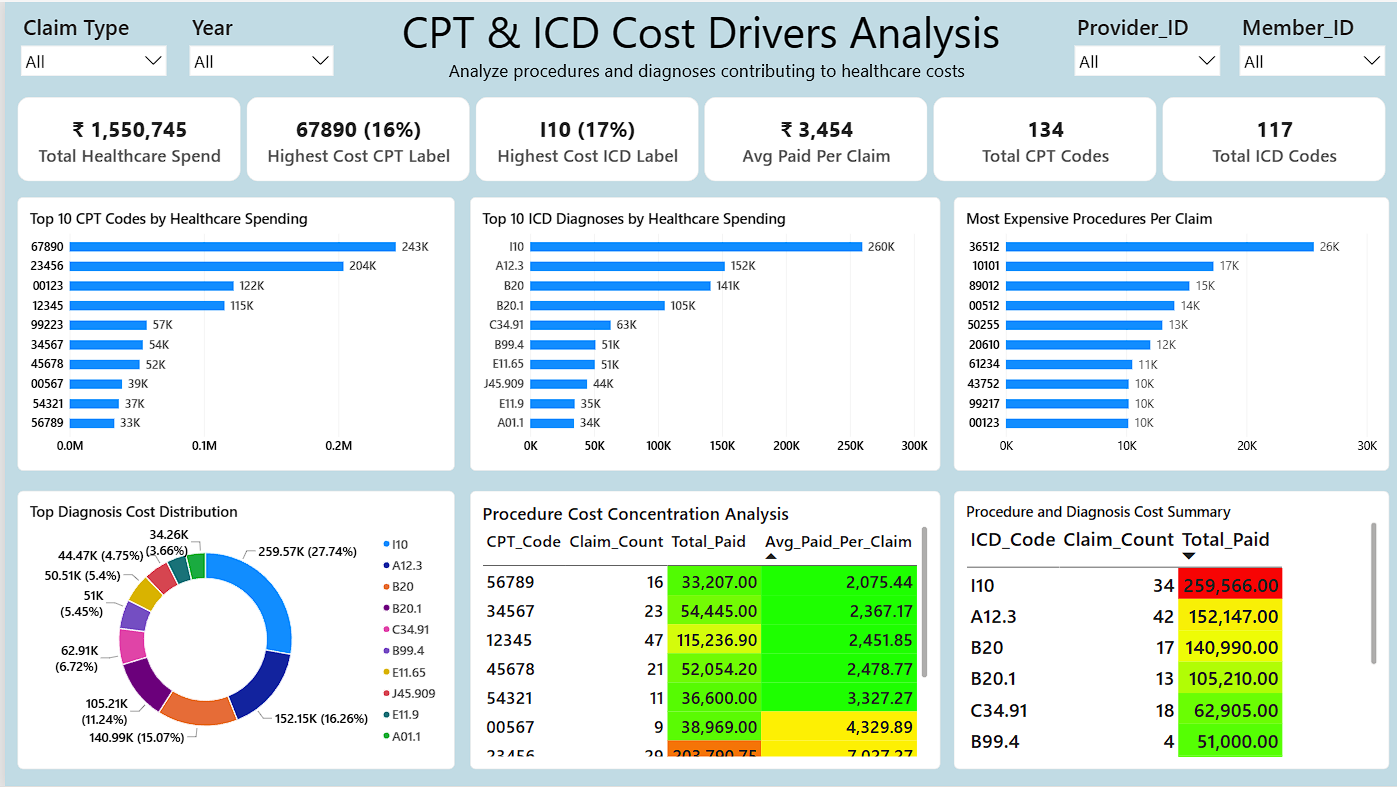

The page's visual inventory and layout, read from the dashboard file:
{"tool":"powerbi","page":{"name":"CPT & ICD COST","canvas":[1920,1080],"ordinal":2},"visuals":[{"type":"textbox","box":[508.6,0,913.3,110.4],"z":0},{"type":"slicer","fields":{"Values":["claims.claim_type"]},"box":[17.3,13,209.9,100],"z":1000},{"type":"slicer","fields":{"Values":["claims.claim_date.Variation.Date Hierarchy.Year"]},"box":[248.9,13,207.8,99.6],"z":2000},{"type":"slicer","fields":{"Values":["claims.provider_id"]},"box":[1467.3,13,209.9,99.6],"z":3000},{"type":"slicer","fields":{"Values":["claims.member_id"]},"box":[1694.5,13,209.9,99.6],"z":4000},{"type":"cardVisual","fields":{"Data":["claims.Total CPT Cost","claims.Highest Cost CPT","claims.Highest Cost ICD","claims.Avg Paid Per Claim","claims.Total CPT Codes","claims.Total ICD Codes"]},"box":[17.3,129.8,1887.1,116.9],"z":5000},{"type":"barChart","title":"Top 10 CPT Codes by Healthcare Spending","fields":{"Category":["vw_CPTAnalysis.cpt_code"],"Y":["Sum(vw_CPTAnalysis.Total_Paid)"]},"box":[17.3,268.4,601.6,376.6],"z":6000},{"type":"barChart","title":"Top 10 ICD Diagnoses by Healthcare Spending","fields":{"Category":["vw_ICDAnalysis.icd_code"],"Y":["Sum(vw_ICDAnalysis.Total_Paid)"]},"box":[640.6,268.4,647.1,376.6],"z":7000},{"type":"clusteredBarChart","title":"Most Expensive Procedures Per Claim","fields":{"Category":["vw_CPTAnalysis.cpt_code"],"Y":["Sum(vw_CPTAnalysis.Avg_Paid_Per_Claim)"]},"box":[1305,268.4,599.5,376.6],"z":8000},{"type":"donutChart","title":"Top Diagnosis Cost Distribution","fields":{"Category":["vw_ICDAnalysis.icd_code"],"Y":["Sum(vw_ICDAnalysis.Total_Paid)"]},"box":[17.3,673,601.6,383.1],"z":9000},{"type":"tableEx","title":"Procedure Cost Concentration Analysis","fields":{"Values":["vw_CPTAnalysis.cpt_code","vw_CPTAnalysis.Claim_Count","vw_CPTAnalysis.Total_Paid","vw_CPTAnalysis.Avg_Paid_Per_Claim"]},"box":[640.6,673,647.1,383.1],"z":10000},{"type":"tableEx","title":"Procedure and Diagnosis Cost Summary","fields":{"Values":["vw_ICDAnalysis.icd_code","vw_ICDAnalysis.Claim_Count","vw_ICDAnalysis.Total_Paid"]},"box":[1305,673,599.5,383.1],"z":11000}]}

Visuals, with their boxes in screenshot pixels (x1, y1, x2, y2), scaled from the page's 1920x1080 canvas onto the 1397x787 screenshot:
textbox: [370, 0, 1035, 80]
slicer - claims.claim_type: [13, 9, 165, 82]
slicer - claims.claim_date.Variation.Date Hierarchy.Year: [181, 9, 332, 82]
slicer - claims.provider_id: [1068, 9, 1220, 82]
slicer - claims.member_id: [1233, 9, 1386, 82]
cardVisual - claims.Total CPT Cost x claims.Highest Cost CPT: [13, 95, 1386, 180]
"Top 10 CPT Codes by Healthcare Spending" barChart: [13, 196, 450, 470]
"Top 10 ICD Diagnoses by Healthcare Spending" barChart: [466, 196, 937, 470]
"Most Expensive Procedures Per Claim" clusteredBarChart: [950, 196, 1386, 470]
"Top Diagnosis Cost Distribution" donutChart: [13, 490, 450, 770]
"Procedure Cost Concentration Analysis" tableEx: [466, 490, 937, 770]
"Procedure and Diagnosis Cost Summary" tableEx: [950, 490, 1386, 770]
